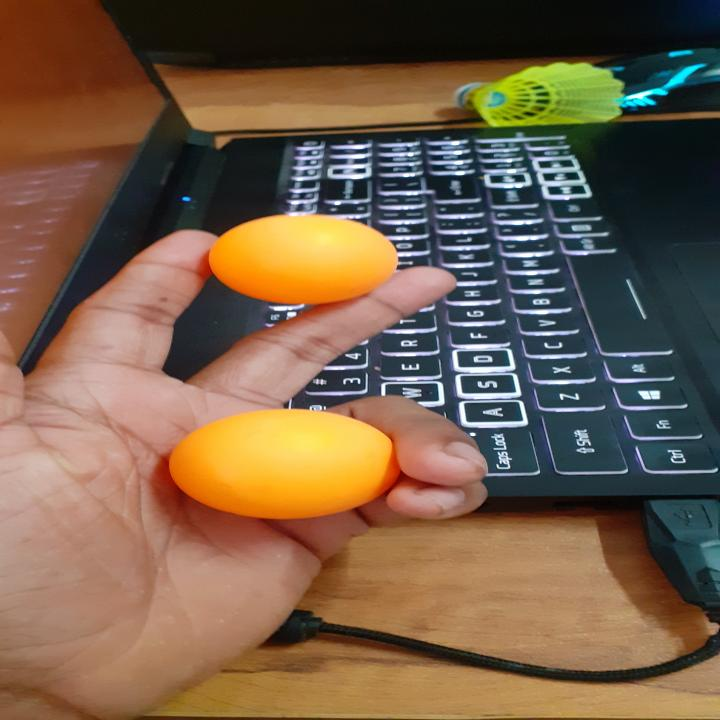orange: (172, 409, 390, 518), (208, 214, 400, 302)
